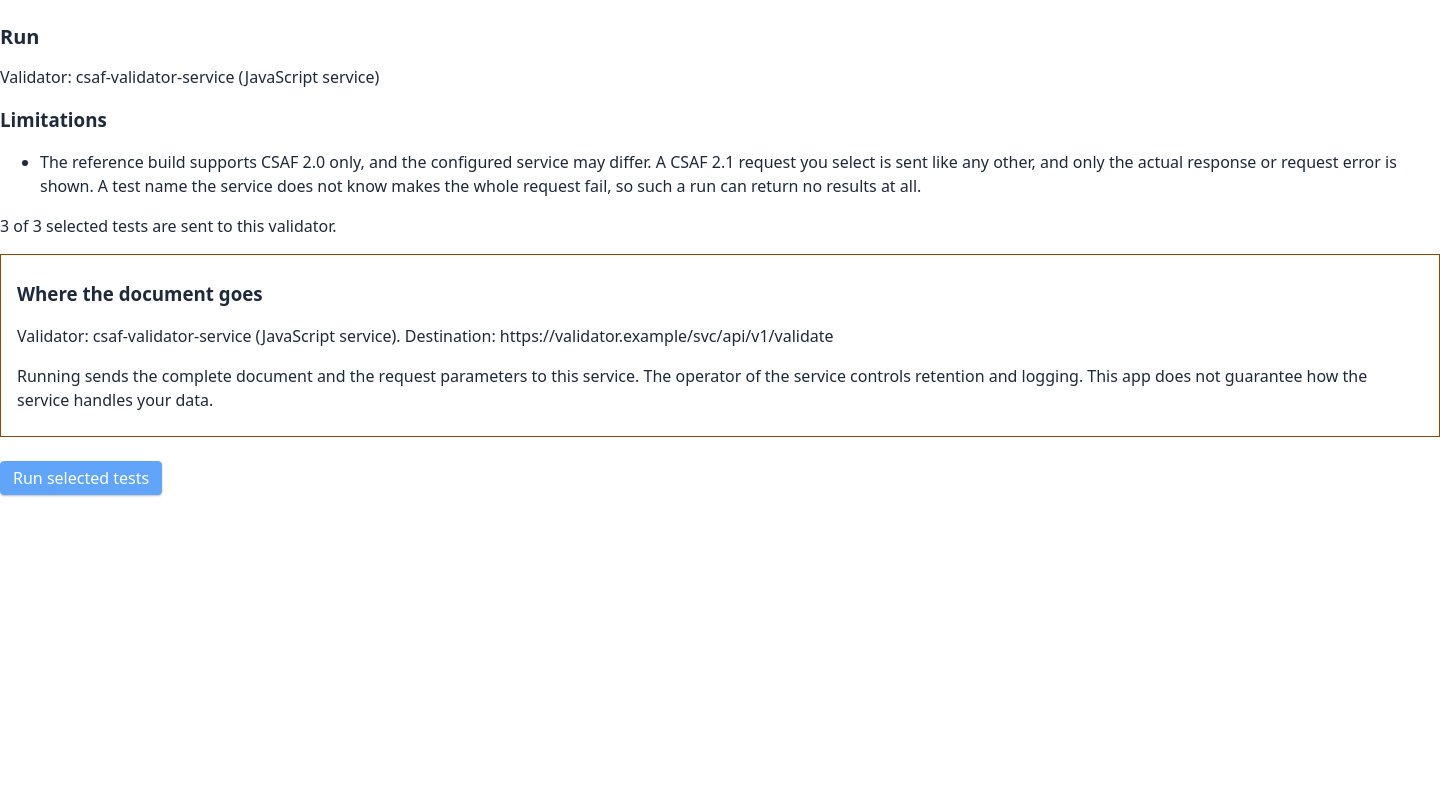
Test: a remote validator › keeps the network confirmation and says the service runs those tests
Later steps or results of the test are not shown.
Click the button "Run selected tests" at (81, 478), box [0,461,162,495]
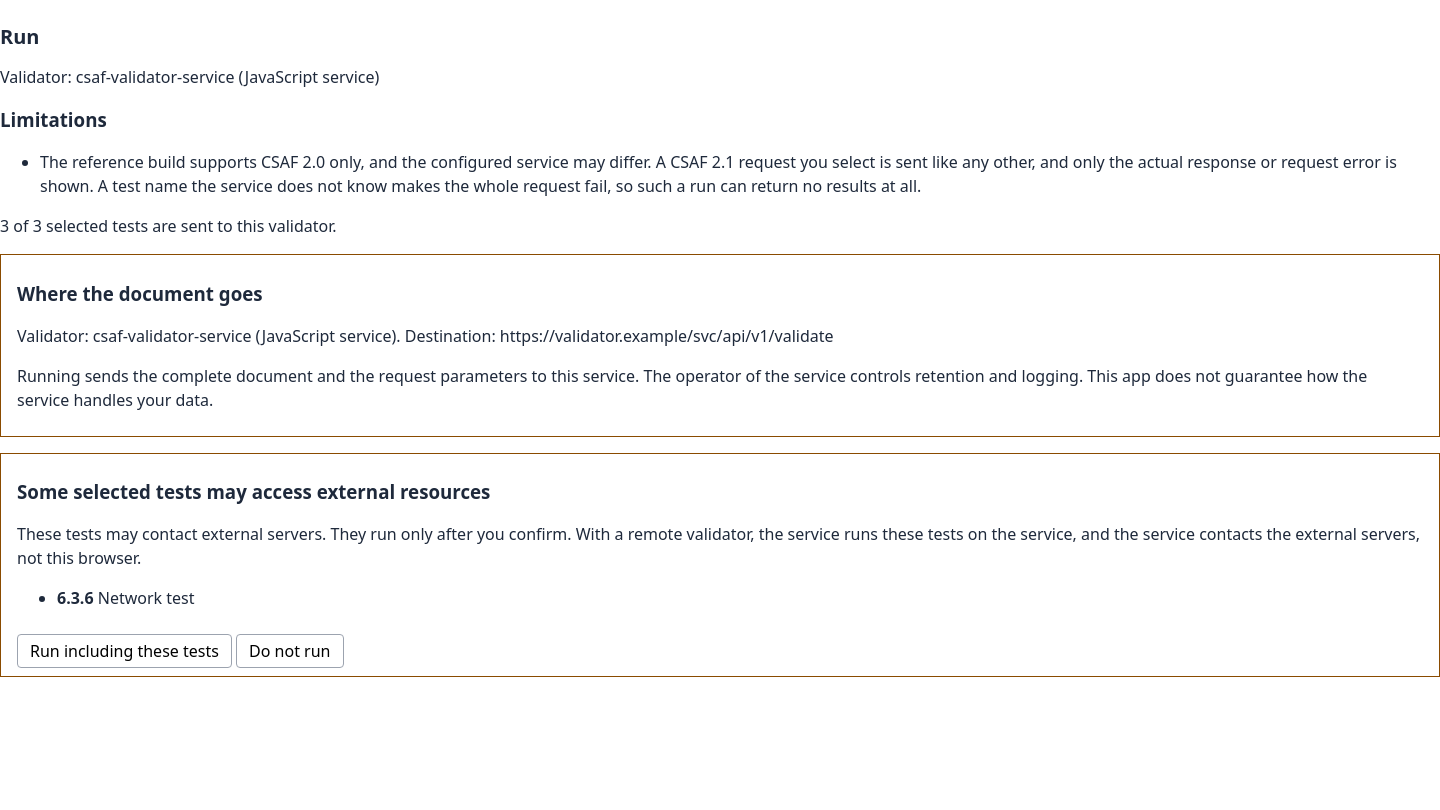
expect the dialog shows "on the service": met, box [17,524,1420,570]
